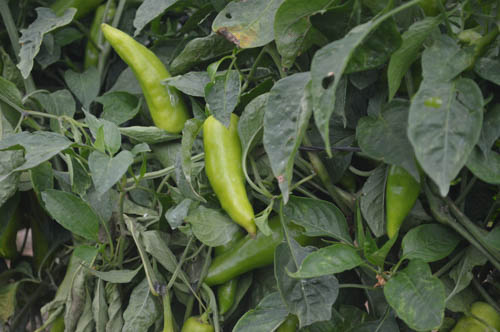ChiliPepper: (102, 23, 190, 132), (209, 217, 315, 280), (200, 111, 251, 230), (212, 223, 248, 310), (386, 161, 425, 240)
